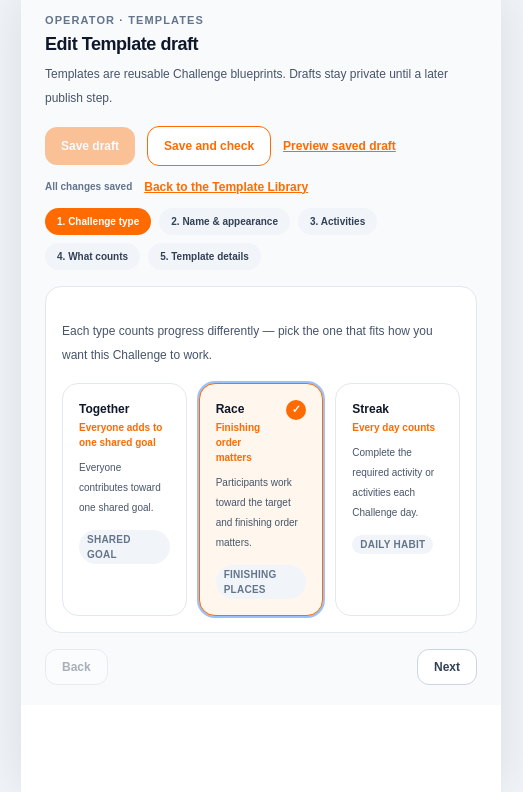
Test: conflict reconciliation › a second conflict returns to reconciliation without losing the author's work
The width and height of the screenshot is (523, 792).
Click the button "5. Template details" at (204, 256), box x1=148 y1=242 x2=261 y2=270
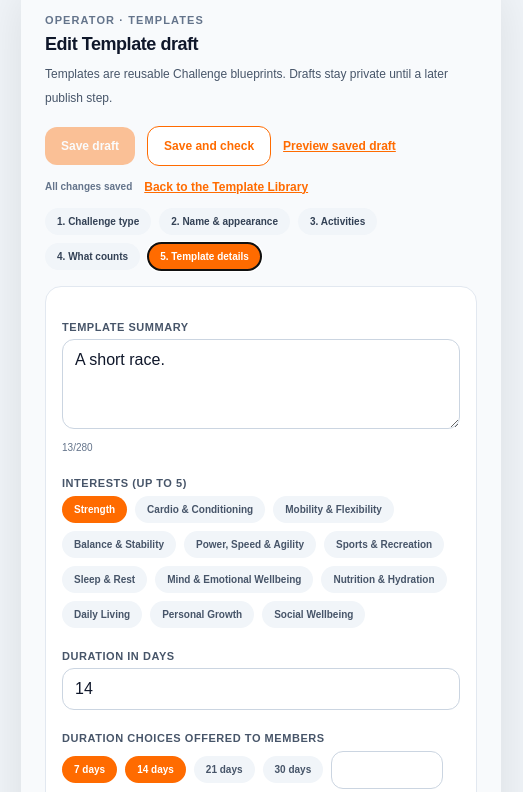
Replace the text in the text box labelled "Template summary" with "Mine" at (261, 384), box x1=62 y1=339 x2=460 y2=429
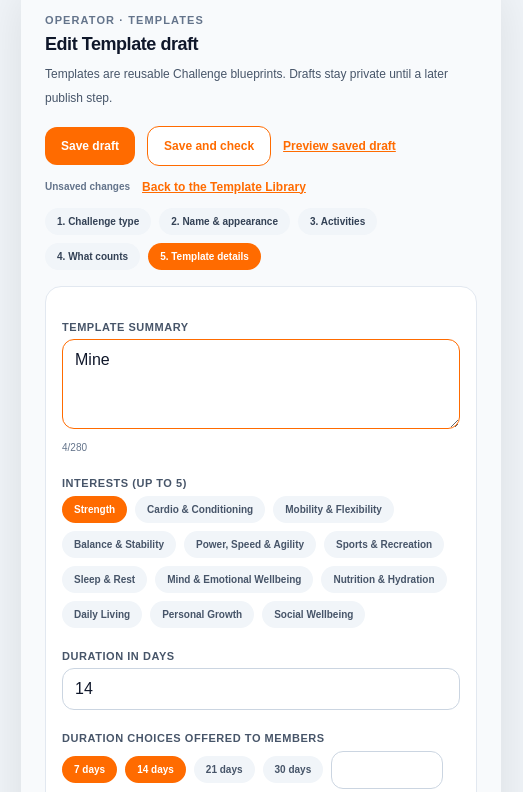
Click the button "Save draft" at (90, 146), box x1=45 y1=126 x2=135 y2=164
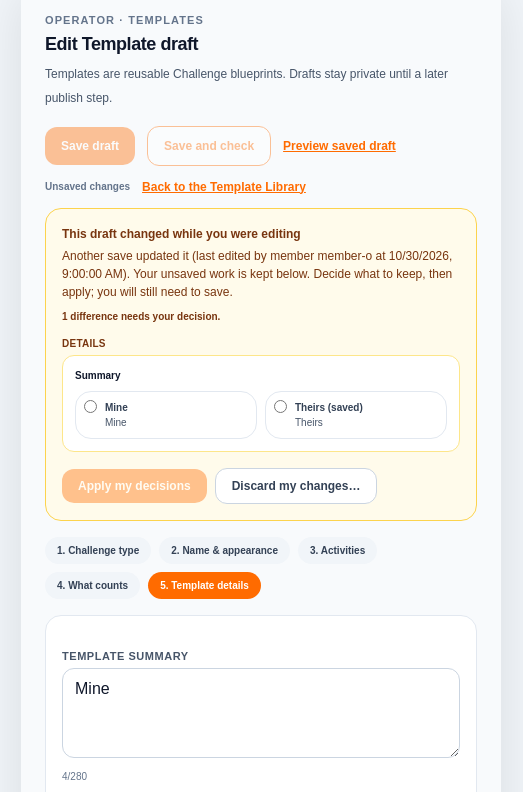
Click the radio button with aria-label "Summary: keep mine" at (90, 406), box x1=84 y1=400 x2=97 y2=412
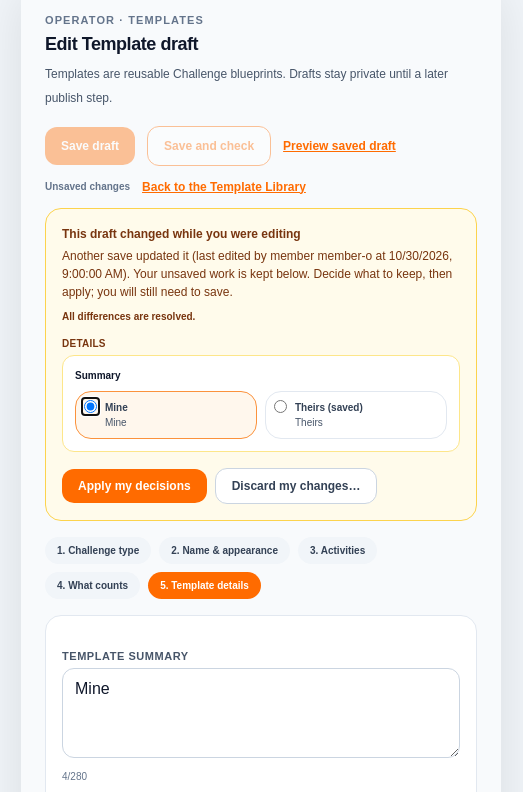
Click the button "Apply my decisions" at (134, 486), box x1=62 y1=468 x2=207 y2=502
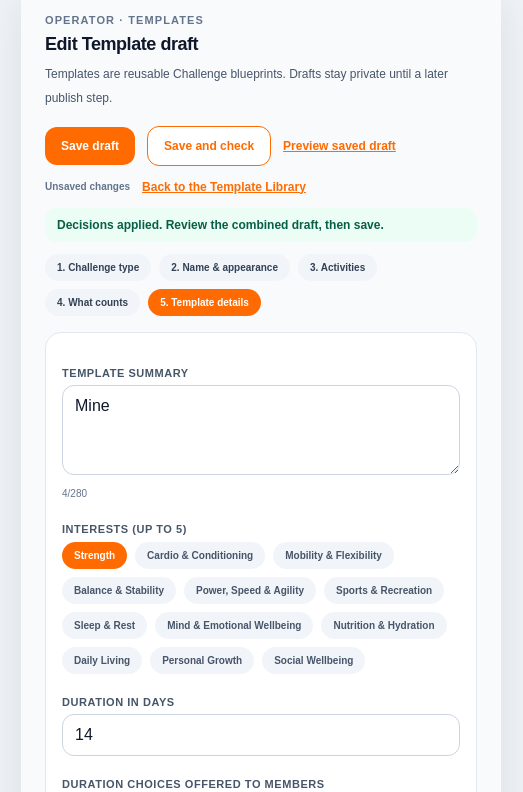
Click the button "Save draft" at (90, 146), box x1=45 y1=126 x2=135 y2=164
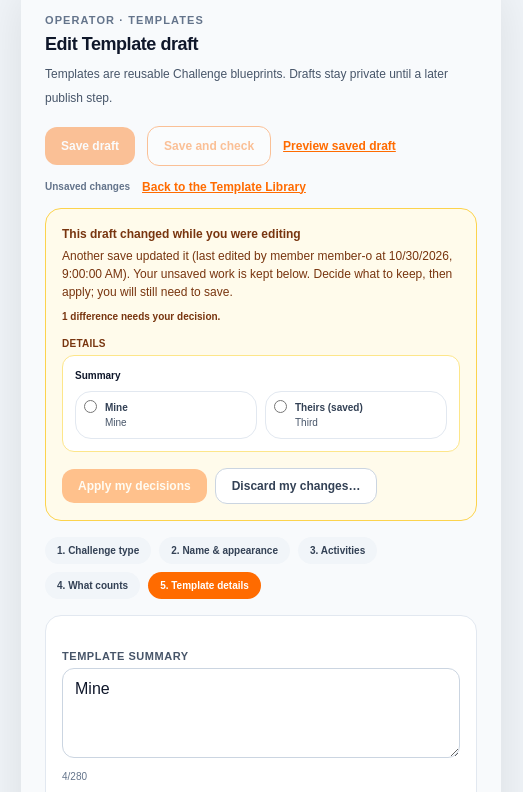
expect the text "Third" is shown: met, box x1=295 y1=416 x2=318 y2=428
